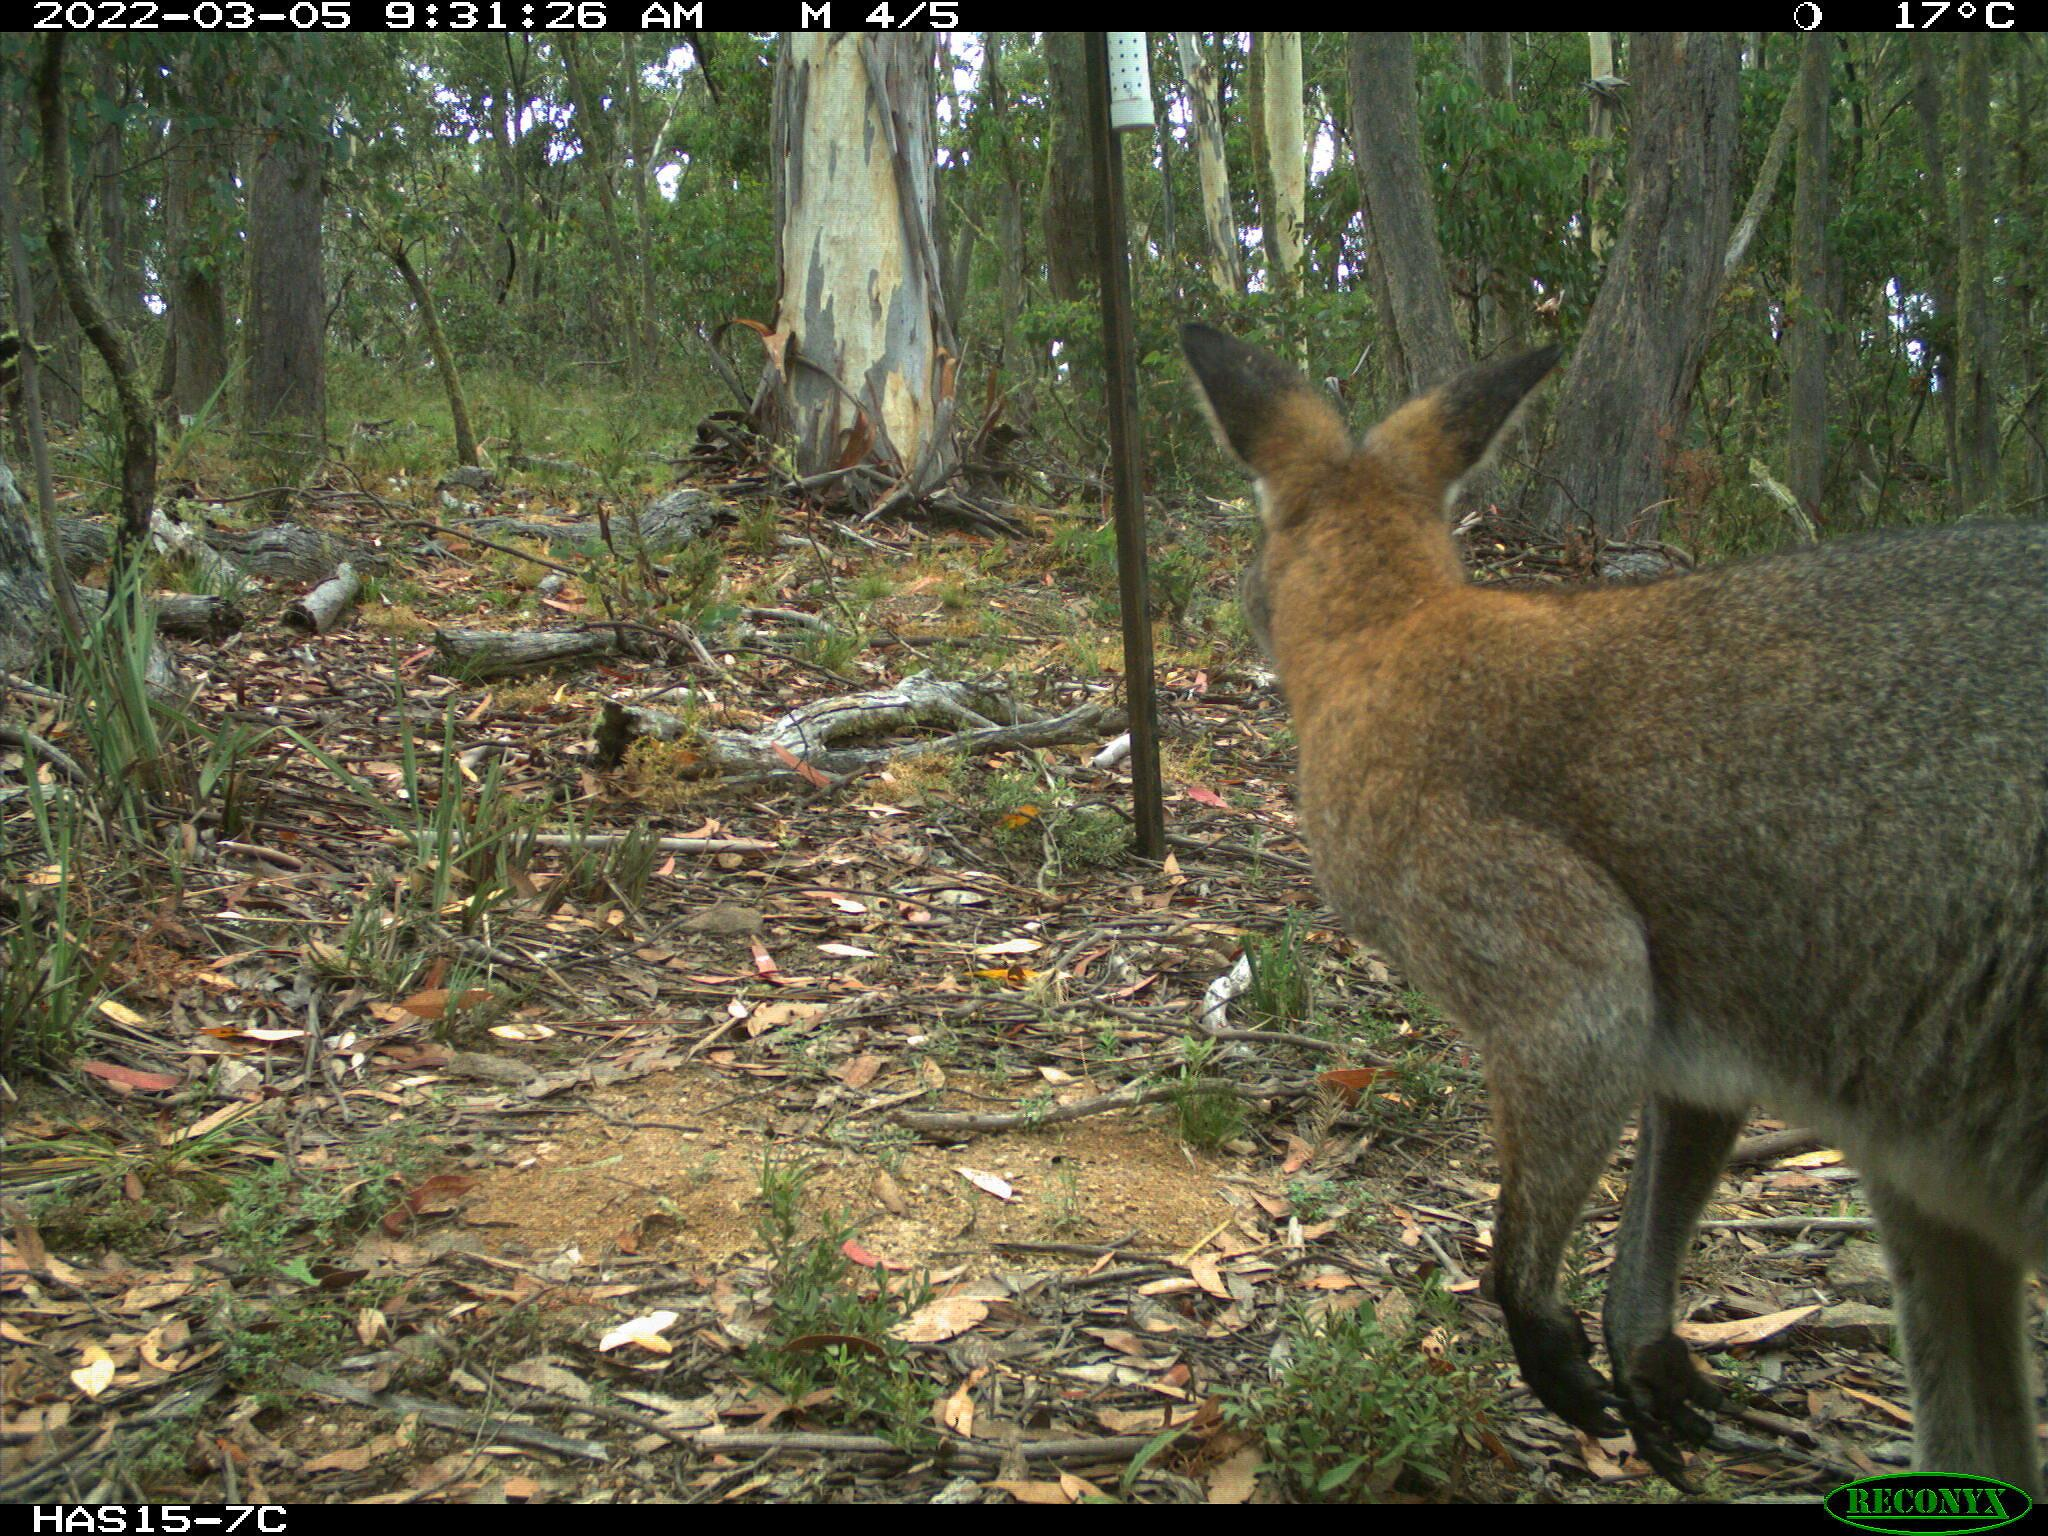Red-necked wallaby: (1180, 318, 2048, 1475)
